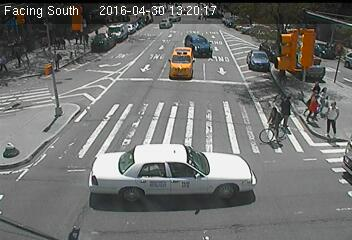neg: (47, 156, 78, 196), (261, 105, 291, 145), (140, 122, 167, 156), (291, 177, 314, 208), (233, 170, 253, 198), (44, 95, 62, 119), (104, 48, 120, 69), (204, 88, 219, 109), (7, 93, 22, 113), (89, 101, 103, 120), (145, 9, 159, 28), (250, 37, 264, 55), (1, 142, 14, 159), (291, 39, 303, 56), (320, 10, 332, 27), (163, 64, 173, 78), (205, 41, 215, 54)
pos: (321, 101, 345, 132), (306, 90, 328, 119), (278, 93, 300, 122), (306, 80, 327, 108), (317, 86, 333, 107), (270, 95, 286, 116), (15, 44, 29, 63), (48, 51, 61, 68)
